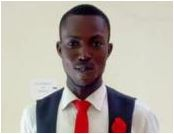without_facemask: (62, 52, 115, 92)
